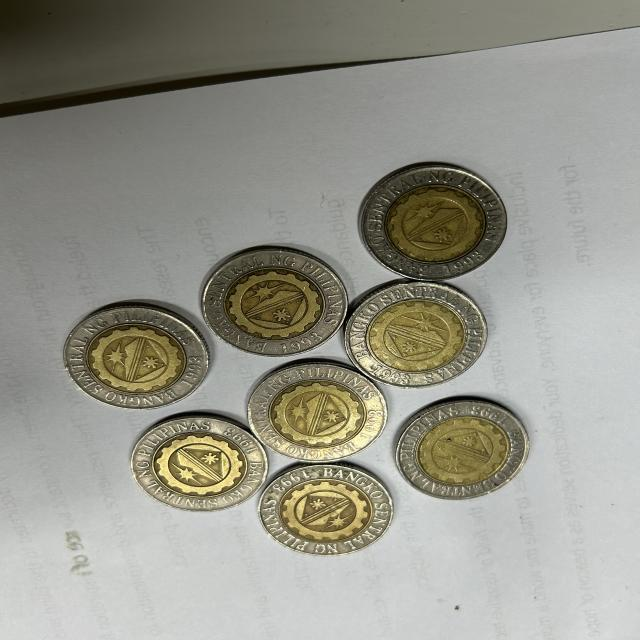10_Old_Back: (359, 167, 510, 275), (57, 305, 203, 405), (344, 285, 477, 381), (399, 400, 529, 494), (125, 410, 252, 502), (247, 365, 381, 452), (207, 252, 344, 335), (268, 465, 383, 548)
